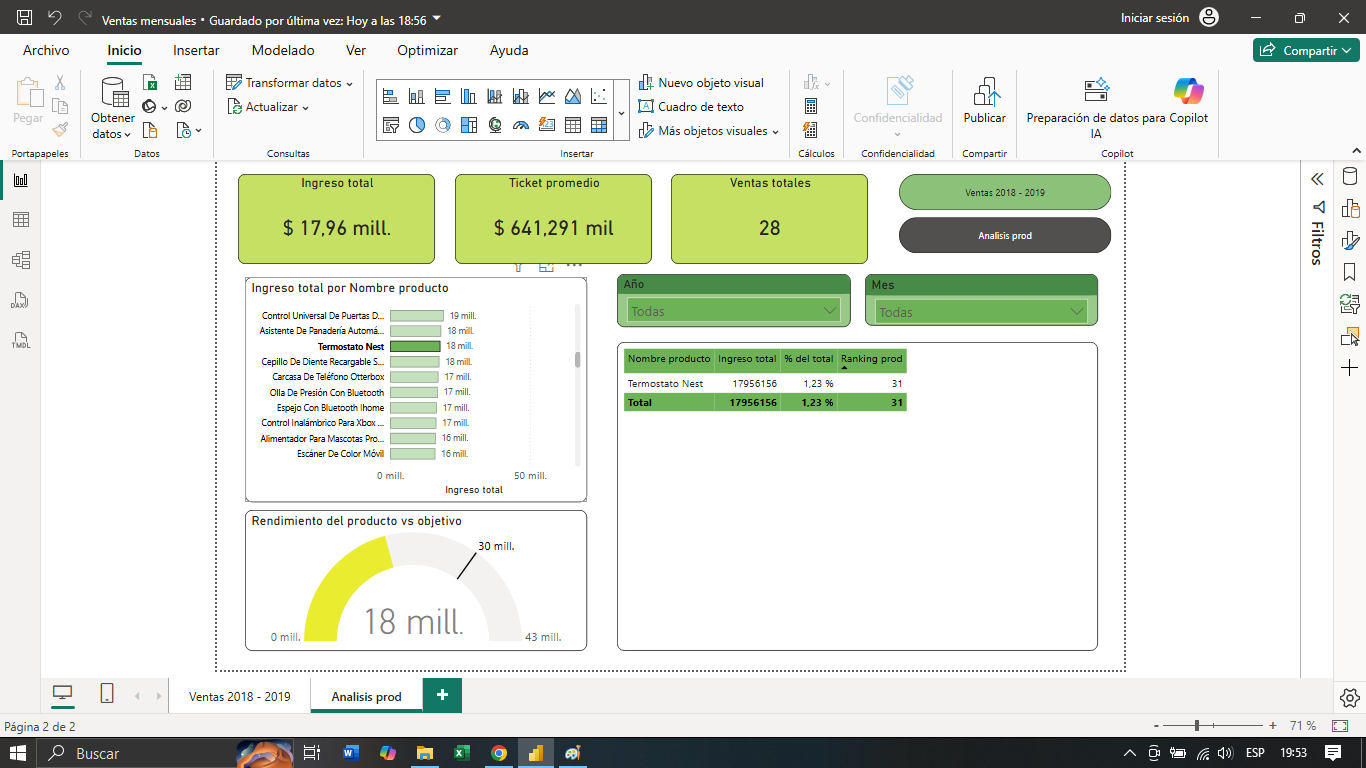

Layout of this report page (visuals, bound fields, positions):
{"tool":"powerbi","page":{"name":"Analisis prod","canvas":[1280,720],"ordinal":1},"visuals":[{"type":"clusteredBarChart","fields":{"Y":["Medidas.Ingreso total"],"Category":["Producto.Nombre producto"]},"box":[39.5,165.2,482.8,317.6],"z":0},{"type":"tableEx","fields":{"Values":["Producto.Nombre producto","Medidas.Ingreso total","Medidas.% del total","Medidas.Ranking prod"]},"box":[564.7,256.9,679.1,436.2],"z":1000},{"type":"card","title":"Ingreso total","fields":{"Values":["Medidas.Ingreso total"]},"box":[30,20,278.3,127],"z":2000},{"type":"card","title":"Ventas totales","fields":{"Values":["Medidas.Ventas totales"]},"box":[640.7,20,278.3,127],"z":3000},{"type":"card","title":"Ticket promedio","fields":{"Values":["Medidas.Ticket promedio"]},"box":[335.3,20,278.3,127],"z":4000},{"type":"gauge","title":"Rendimiento del producto vs objetivo","fields":{"Y":["Medidas.Ingreso total"],"MinValue":["Medidas.Minimo medidor"],"MaxValue":["Medidas.Maximo medidor"],"TargetValue":["Medidas.Objetivo medidor"]},"box":[39.5,494.1,482.8,199.1],"z":5000},{"type":"pageNavigator","box":[962.8,19.8,300.7,112.9],"z":6000},{"type":"slicer","title":"Año","fields":{"Values":["Calendario.Año"]},"box":[564.7,160.9,330.4,74.8],"z":6001},{"type":"slicer","title":"Mes","fields":{"Values":["Calendario.Nombre del mes"]},"box":[914.8,160.9,328.9,73.4],"z":6002}]}

Visuals, with their boxes on the page's 1280x720 design canvas (x1, y1, x2, y2). These are canvas units, not pixel positions in the 1366x768 screenshot, which may show the page scaled, cropped or inside an application window:
clusteredBarChart - Medidas.Ingreso total x Producto.Nombre producto: [left=40, top=165, right=522, bottom=483]
tableEx - Producto.Nombre producto x Medidas.Ingreso total: [left=565, top=257, right=1244, bottom=693]
"Ingreso total" card: [left=30, top=20, right=308, bottom=147]
"Ventas totales" card: [left=641, top=20, right=919, bottom=147]
"Ticket promedio" card: [left=335, top=20, right=614, bottom=147]
"Rendimiento del producto vs objetivo" gauge: [left=40, top=494, right=522, bottom=693]
pageNavigator: [left=963, top=20, right=1264, bottom=133]
"Año" slicer: [left=565, top=161, right=895, bottom=236]
"Mes" slicer: [left=915, top=161, right=1244, bottom=234]
